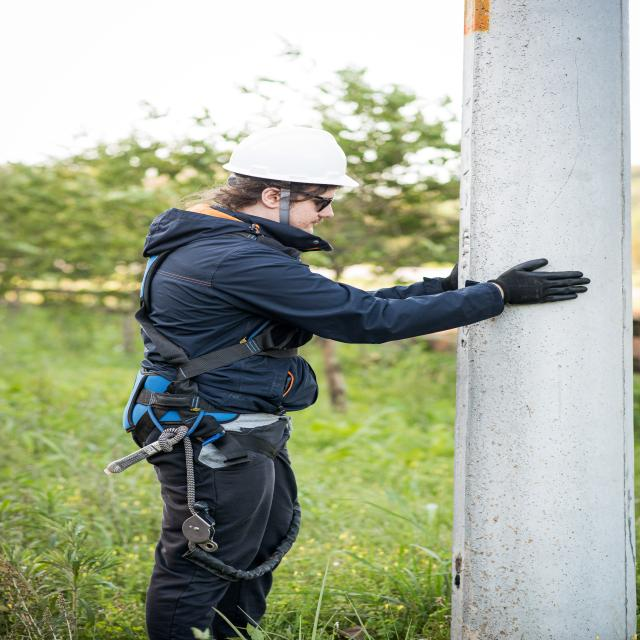capacete: (218, 122, 363, 190)
luva: (484, 255, 595, 311)
